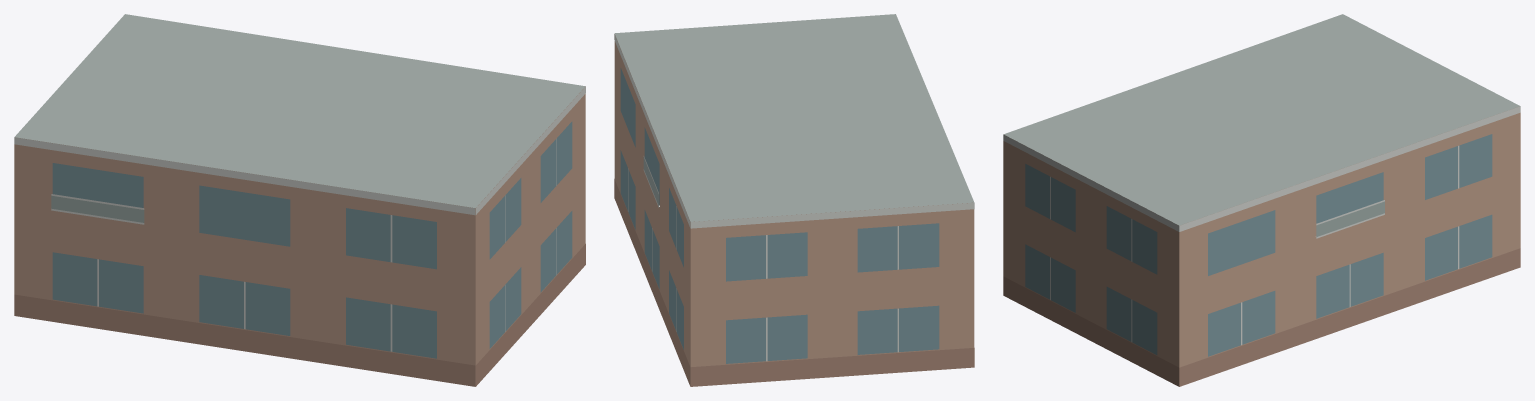
File: survey-upis-32641856.glb
3 views of the same model, side by side, from view 1: azimuth 30°, elevation 25°; view 2: azimuth 150°, elevation 25°; view 3: azimuth 270°, elevation 25° (orthographic). The views are drawn at different scales.
Visible parts, largest first — view 1: survey-upis-32641856.tmp; view 2: survey-upis-32641856.tmp; view 3: survey-upis-32641856.tmp.
Part boxes in pixels (x1,y1,x2,y2): survey-upis-32641856.tmp: (14,14,585,386); survey-upis-32641856.tmp: (614,14,974,386); survey-upis-32641856.tmp: (1003,14,1520,386).
Bounding box in the file's own units: 17.18 × 6.1 × 17.74.
